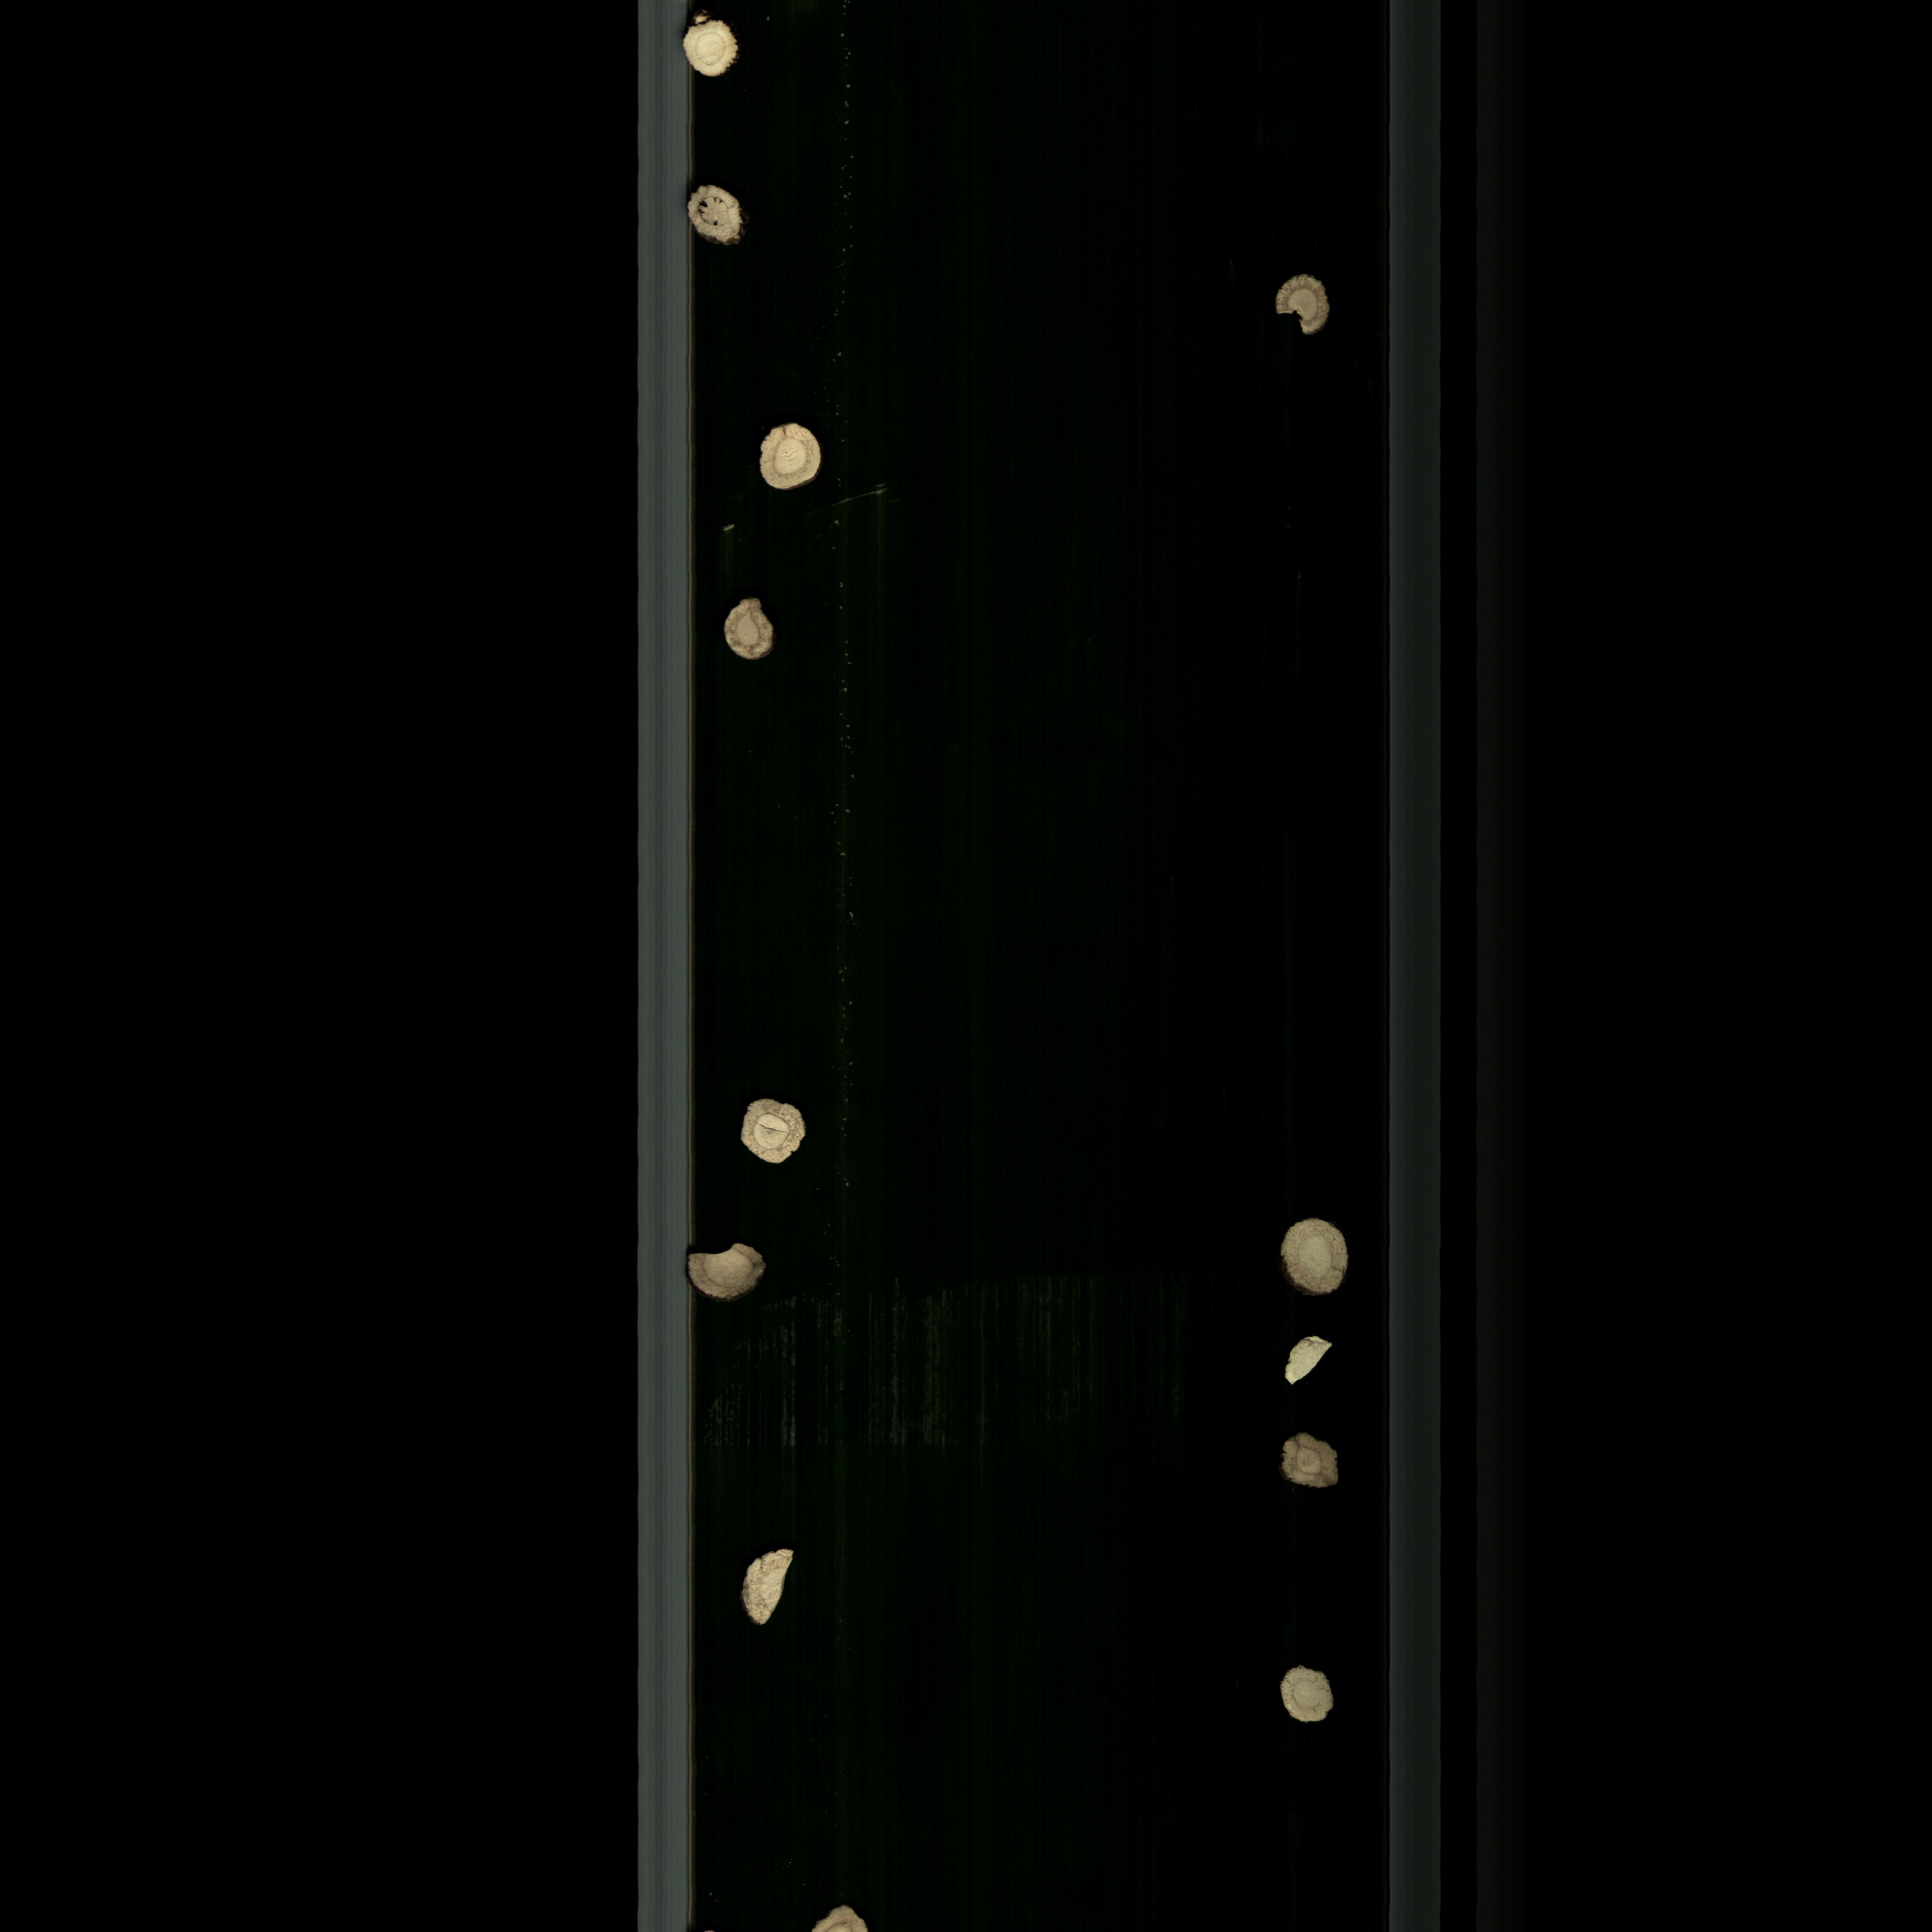debris: (729, 1536, 803, 1637)
dreg: (1277, 1334, 1336, 1387)
moldy: (1269, 1210, 1353, 1311), (672, 1242, 778, 1313), (750, 418, 828, 501), (1267, 1430, 1350, 1504), (1258, 267, 1334, 343), (709, 591, 782, 663), (685, 175, 750, 251), (787, 1898, 888, 1932)
